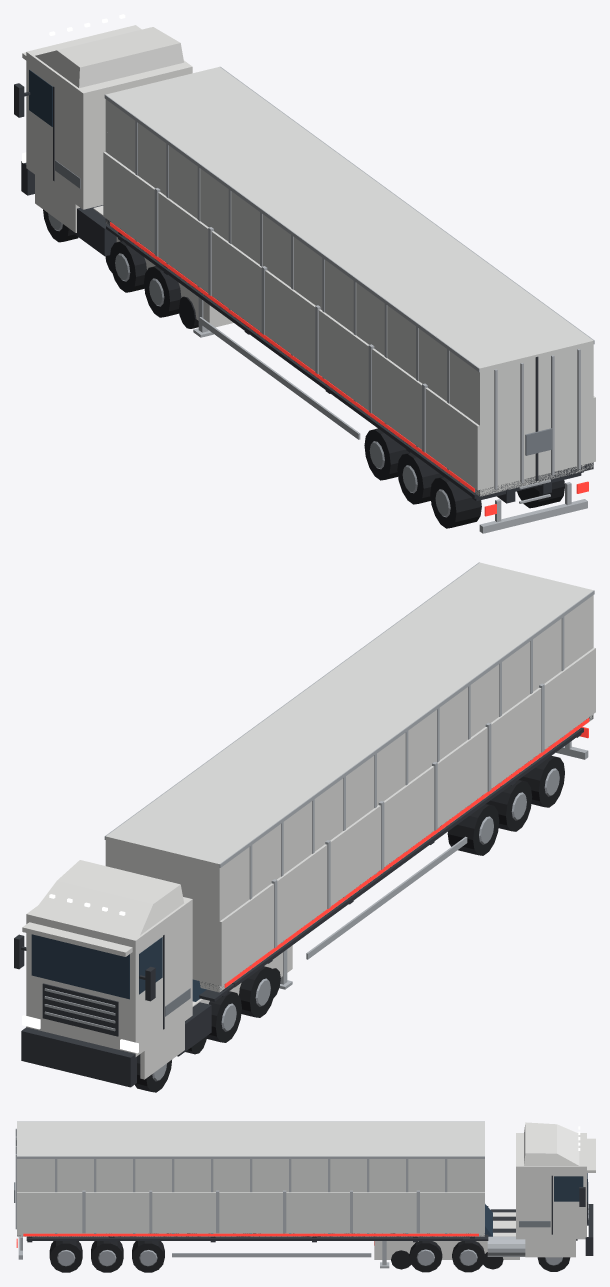
File: veiculos.glb
3 views of the same model, one above another, from view 1: azimuth 30°, elevation 25°; view 2: azimuth 150°, elevation 25°; view 3: azimuth 270°, elevation 25° (orthographic). The views are drawn at different scales.
Visible parts, largest first — view 1: CARRETA_bau, CARRETA_graneleiro, CAVALO, CARRETA_tanque, CARRO_suv; view 2: CARRETA_bau, CAVALO, CARRETA_graneleiro, CARRETA_tanque, CARRO_suv; view 3: CARRETA_bau, CARRETA_graneleiro, CAVALO, CARRETA_tanque, CARRO_suv.
Part boxes in pixels (x1,y1,x2,y2): CARRETA_bau: (104,66,594,533); CARRETA_graneleiro: (103,131,595,521); CAVALO: (14,14,192,317); CARRETA_tanque: (125,239,587,533); CARRO_suv: (93,205,233,328); CARRETA_bau: (104,562,594,992); CAVALO: (14,860,275,1092); CARRETA_graneleiro: (193,647,595,989); CARRETA_tanque: (232,727,588,986); CARRO_suv: (185,945,292,1054); CARRETA_bau: (15,1121,484,1272); CARRETA_graneleiro: (17,1190,484,1265); CAVALO: (409,1122,595,1272); CARRETA_tanque: (14,1182,462,1268); CARRO_suv: (374,1204,519,1269).
Bounding box in the file's own units: 3.12 × 4.14 × 18.41.
